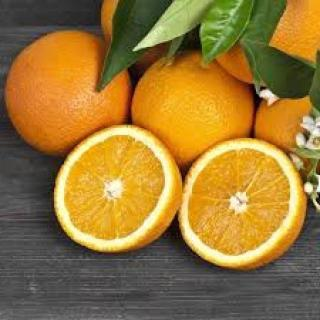orange: (47, 94, 192, 279), (170, 120, 318, 288), (0, 23, 137, 171)
